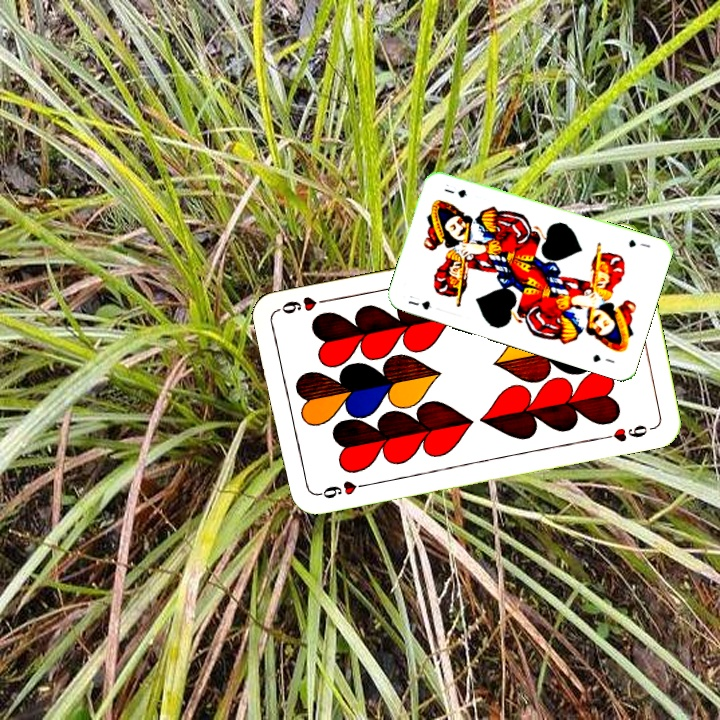GU: (404, 291, 434, 312), (624, 235, 653, 250)
H9: (313, 476, 371, 502)
